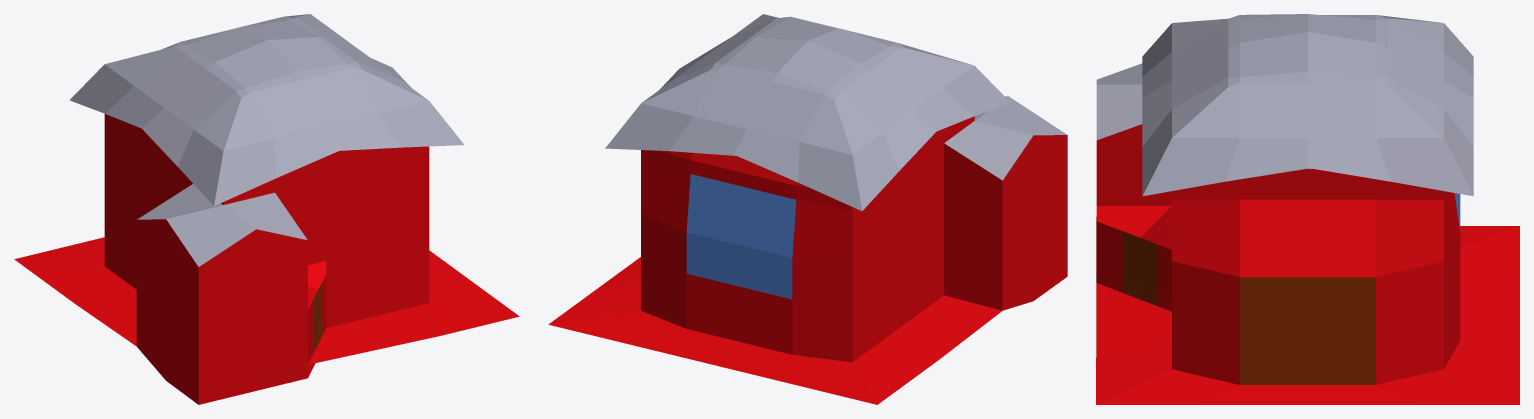
The model's file is CCUShouse.fbx.
3 renders of one model, left to right at view 1: azimuth 30°, elevation 25°; view 2: azimuth 150°, elevation 25°; view 3: azimuth 270°, elevation 25°, orthographic. The views are drawn at different scales.
Visible parts, largest first — view 1: House; view 2: House; view 3: House.
Boxes of the visible parts, x1,y1,x2,y2 form: House: (14, 14, 519, 404); House: (548, 14, 1067, 404); House: (1096, 14, 1519, 404).
Size of the model in its own units: 174 by 133 by 173.
